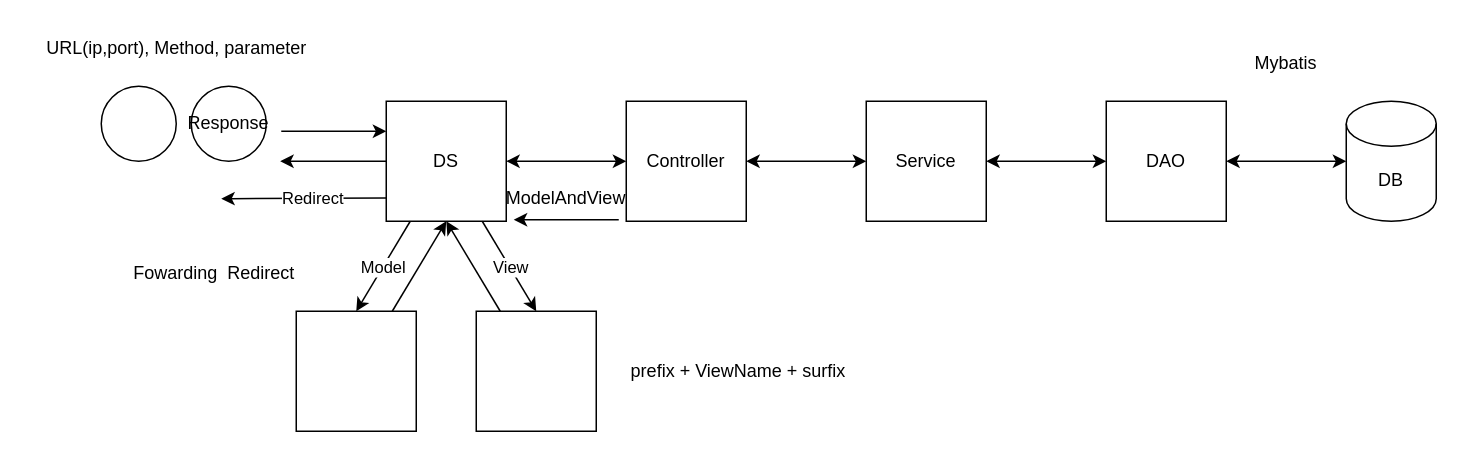
The diagram is 1463 pixels wide and 458 high, and some of its shapes have lost their labels. Here are the shapes that lost their labels. From the top down, the centre of each, then its label:
At (x=138, y=123): "Request".
At (x=355, y=370): "JSP".
At (x=535, y=370): "Internal Resource ViewResolver".
